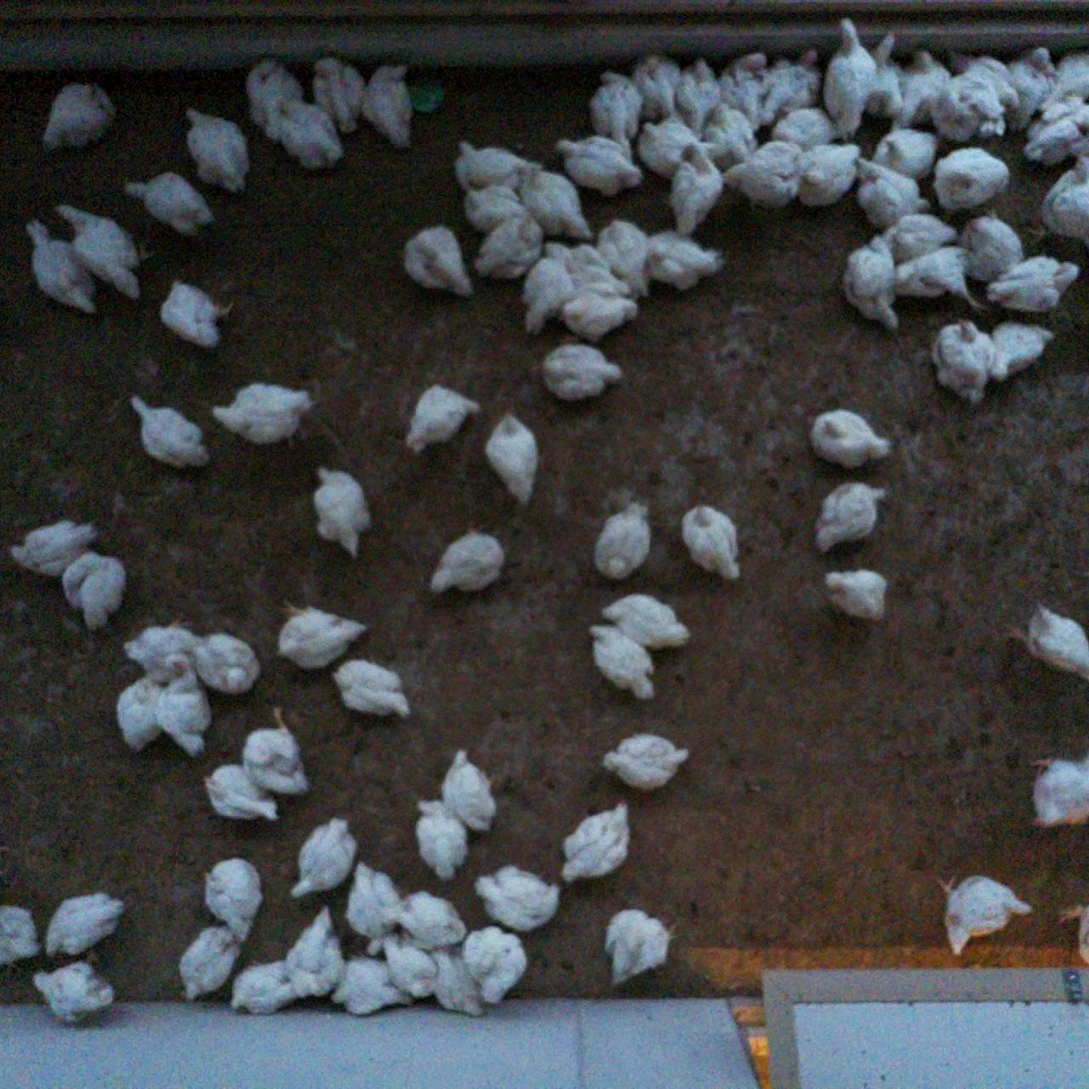chicken: (21, 208, 104, 321), (885, 241, 997, 322), (56, 199, 148, 297), (936, 869, 1032, 956), (819, 16, 882, 144), (206, 371, 312, 447), (272, 598, 373, 675), (308, 459, 377, 562), (282, 904, 352, 1004), (469, 859, 568, 929), (27, 952, 117, 1029), (1002, 604, 1089, 683), (287, 813, 364, 902), (838, 232, 906, 332), (578, 624, 658, 708), (336, 859, 404, 956), (398, 220, 480, 300), (124, 393, 210, 469), (851, 151, 937, 226), (605, 901, 675, 993), (324, 951, 417, 1020), (598, 590, 695, 656), (933, 140, 1014, 219), (39, 78, 122, 155), (240, 710, 310, 801), (1020, 744, 1089, 836), (513, 165, 592, 244), (928, 321, 998, 410), (181, 104, 251, 193), (44, 890, 129, 963), (405, 380, 483, 459), (61, 550, 134, 634), (535, 335, 621, 406), (122, 173, 213, 240), (485, 410, 547, 508), (667, 138, 726, 240), (560, 801, 634, 882), (11, 513, 98, 581), (716, 144, 804, 211), (464, 922, 531, 1009), (154, 667, 218, 758), (359, 56, 417, 156), (244, 55, 307, 147), (598, 730, 690, 793), (161, 276, 239, 350), (120, 614, 198, 688), (885, 46, 950, 134), (332, 656, 416, 724), (272, 93, 346, 170), (983, 252, 1076, 313), (807, 406, 897, 469), (449, 132, 536, 197), (588, 499, 654, 584), (543, 238, 632, 301), (202, 854, 265, 943), (811, 471, 880, 552), (854, 27, 911, 122), (640, 229, 728, 290), (425, 532, 506, 598), (174, 924, 240, 1005), (791, 139, 860, 216), (598, 220, 660, 305), (192, 630, 264, 703), (954, 208, 1025, 282), (556, 135, 648, 192), (587, 65, 645, 155), (1028, 157, 1089, 242), (1006, 40, 1060, 136), (469, 211, 544, 280), (436, 747, 499, 829), (307, 51, 365, 140), (677, 504, 745, 578), (986, 316, 1056, 387), (559, 287, 644, 345), (759, 51, 823, 128), (932, 74, 1002, 144), (226, 959, 305, 1021), (944, 46, 1024, 107), (1022, 96, 1089, 168), (396, 890, 469, 956), (720, 47, 774, 136), (412, 797, 469, 879), (425, 946, 487, 1020), (626, 111, 696, 176), (814, 559, 887, 621), (200, 761, 278, 818), (382, 928, 439, 1005), (113, 672, 165, 755), (520, 240, 566, 333), (671, 58, 726, 135), (705, 102, 763, 172), (869, 128, 941, 182), (871, 209, 950, 258), (628, 51, 681, 122), (459, 178, 527, 233), (1036, 47, 1089, 116), (765, 104, 841, 151), (0, 901, 46, 967), (1058, 895, 1089, 962)
